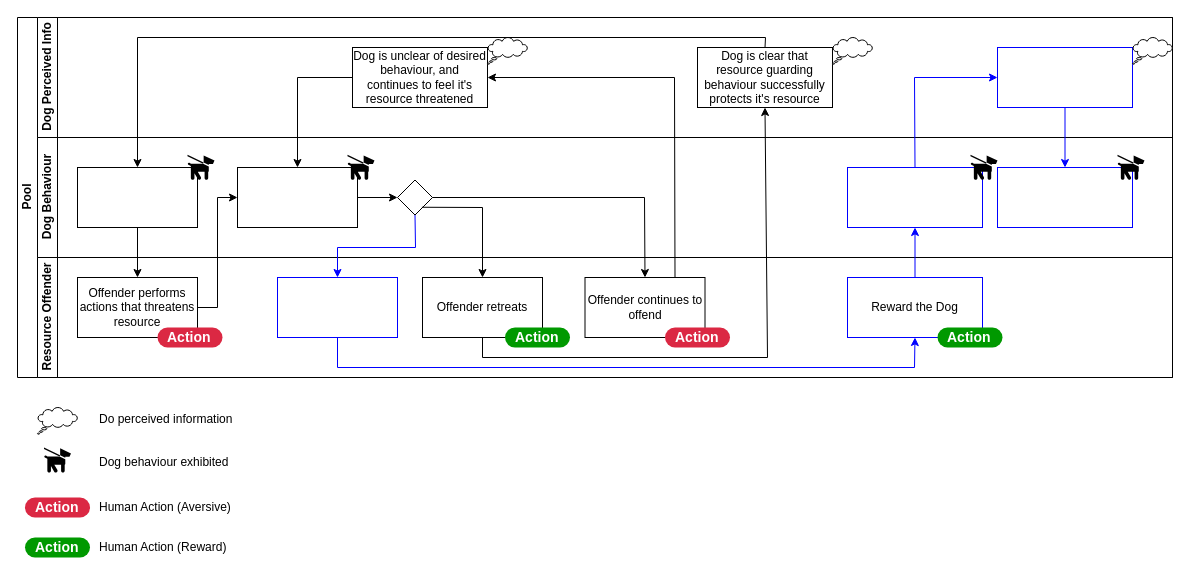
The diagram is 1190 pixels wide and 580 high, and some of its shapes have lost their labels. The centre of each missing label's shape, as x and y in pixels:
"Dog associated resource offending actions as less threatening" goes at point 1064,77.
"Dog exhibits desired behaviour (accepts the trade, drops the resource)" goes at point 914,197.
"Dog exhibits or escalates resource guarding behaviour" goes at point 297,197.
"Dog hanging around resource" goes at point 137,197.
"Offender cues a trade or desired behaviour" goes at point 337,307.
"Reduced resource guarding behaviour exhibited" goes at point 1064,197.
